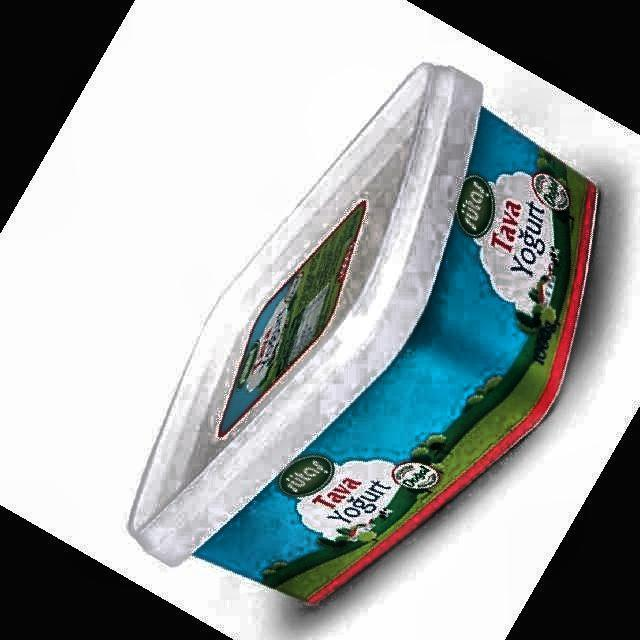plastic: (131, 65, 596, 602)
